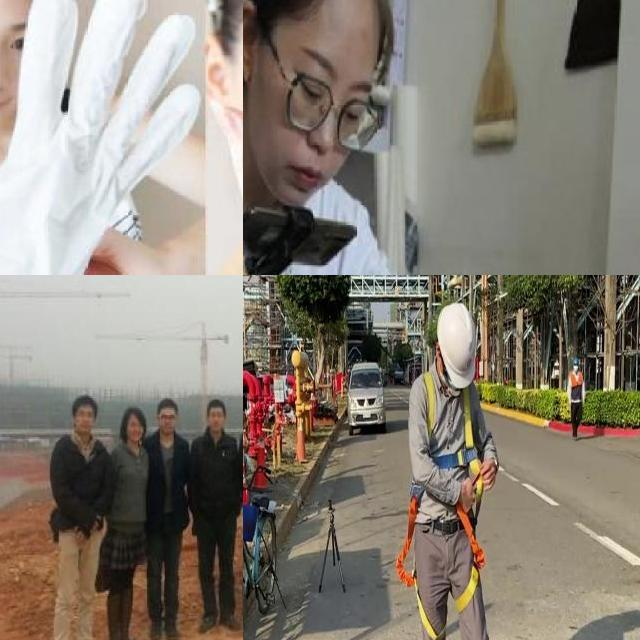Harness: (424, 372, 484, 502), (396, 493, 446, 640), (455, 504, 486, 614)
No_Ear-Protection: (243, 0, 261, 83)
face_nomask: (245, 35, 378, 208), (0, 0, 48, 138), (76, 408, 94, 432), (207, 408, 225, 430), (159, 412, 175, 433), (127, 421, 144, 439)
glasses: (279, 67, 385, 152)
hand_glove: (0, 0, 194, 275)
hand_noglove: (79, 223, 165, 275)
head_nohelmet: (262, 0, 405, 33), (72, 394, 100, 411), (122, 406, 146, 422), (157, 397, 178, 414), (207, 398, 224, 412)
person: (243, 0, 505, 275), (47, 393, 111, 640), (95, 400, 154, 640), (188, 399, 243, 640), (142, 396, 196, 640)
shoes: (119, 591, 140, 640), (104, 593, 125, 640), (218, 610, 242, 634), (196, 610, 217, 636), (162, 619, 183, 640), (148, 618, 163, 640)
